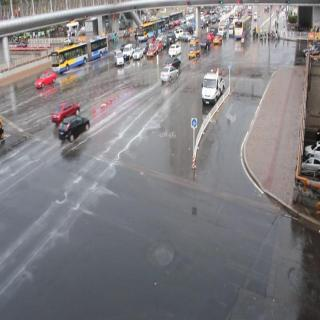BigCar: (51, 46, 92, 71), (235, 18, 251, 41)
Car: (203, 68, 225, 109), (51, 96, 82, 121), (58, 117, 89, 141), (160, 65, 182, 91), (34, 71, 56, 91), (138, 23, 157, 42), (112, 48, 124, 70), (169, 43, 182, 58), (147, 43, 158, 60), (123, 43, 133, 61), (189, 44, 200, 60), (133, 47, 144, 62), (201, 38, 211, 53), (219, 23, 228, 38), (183, 31, 192, 43), (214, 34, 222, 47), (228, 25, 234, 39)
